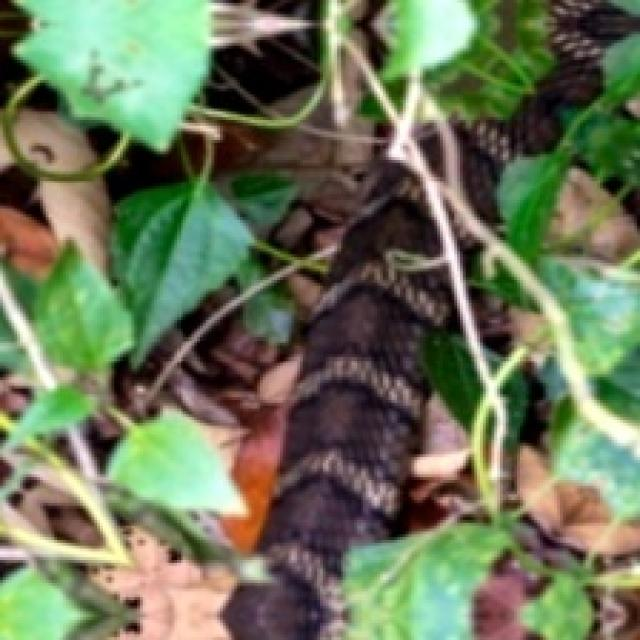king cobra: (226, 40, 637, 637)
